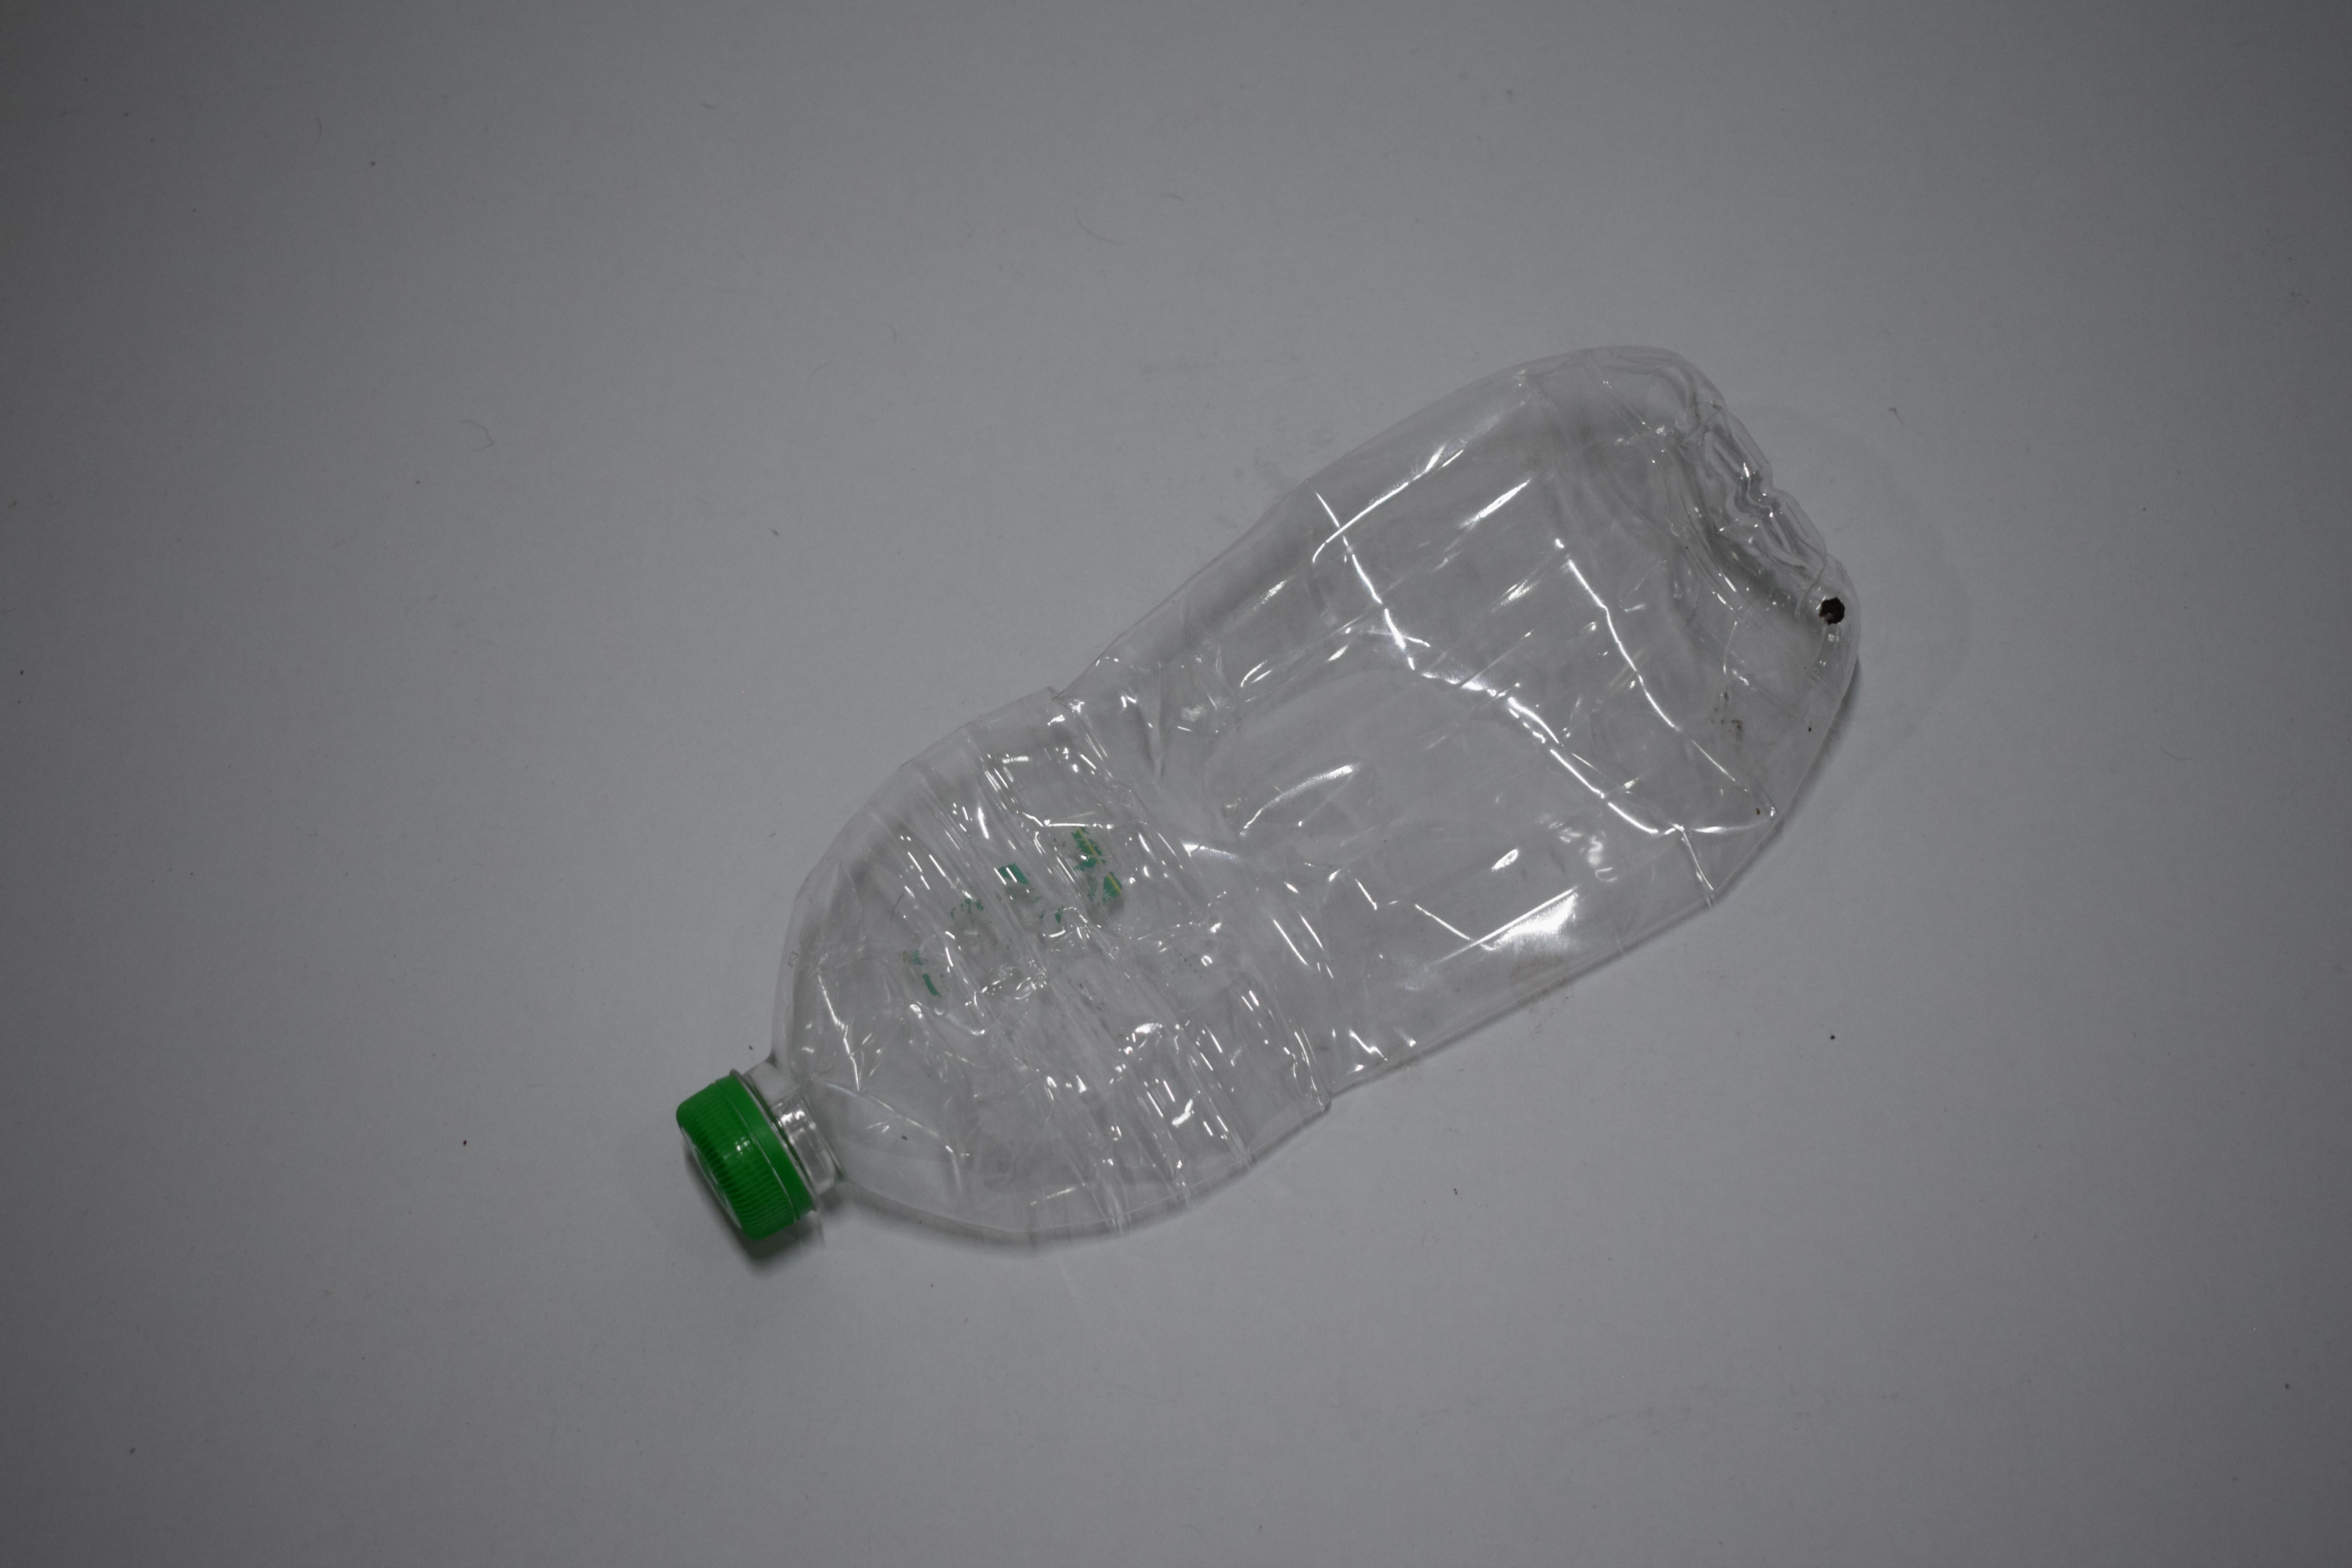bottle: (79, 0, 110, 487)
